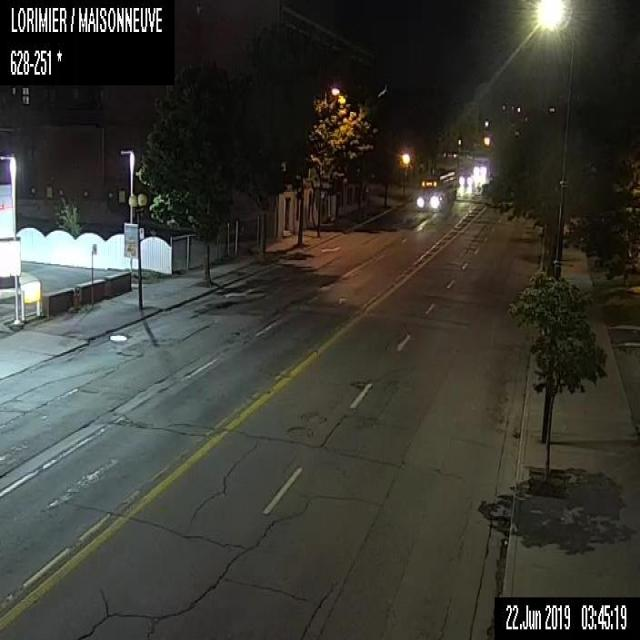bus: (415, 169, 456, 211)
vehicle: (458, 168, 474, 186)
